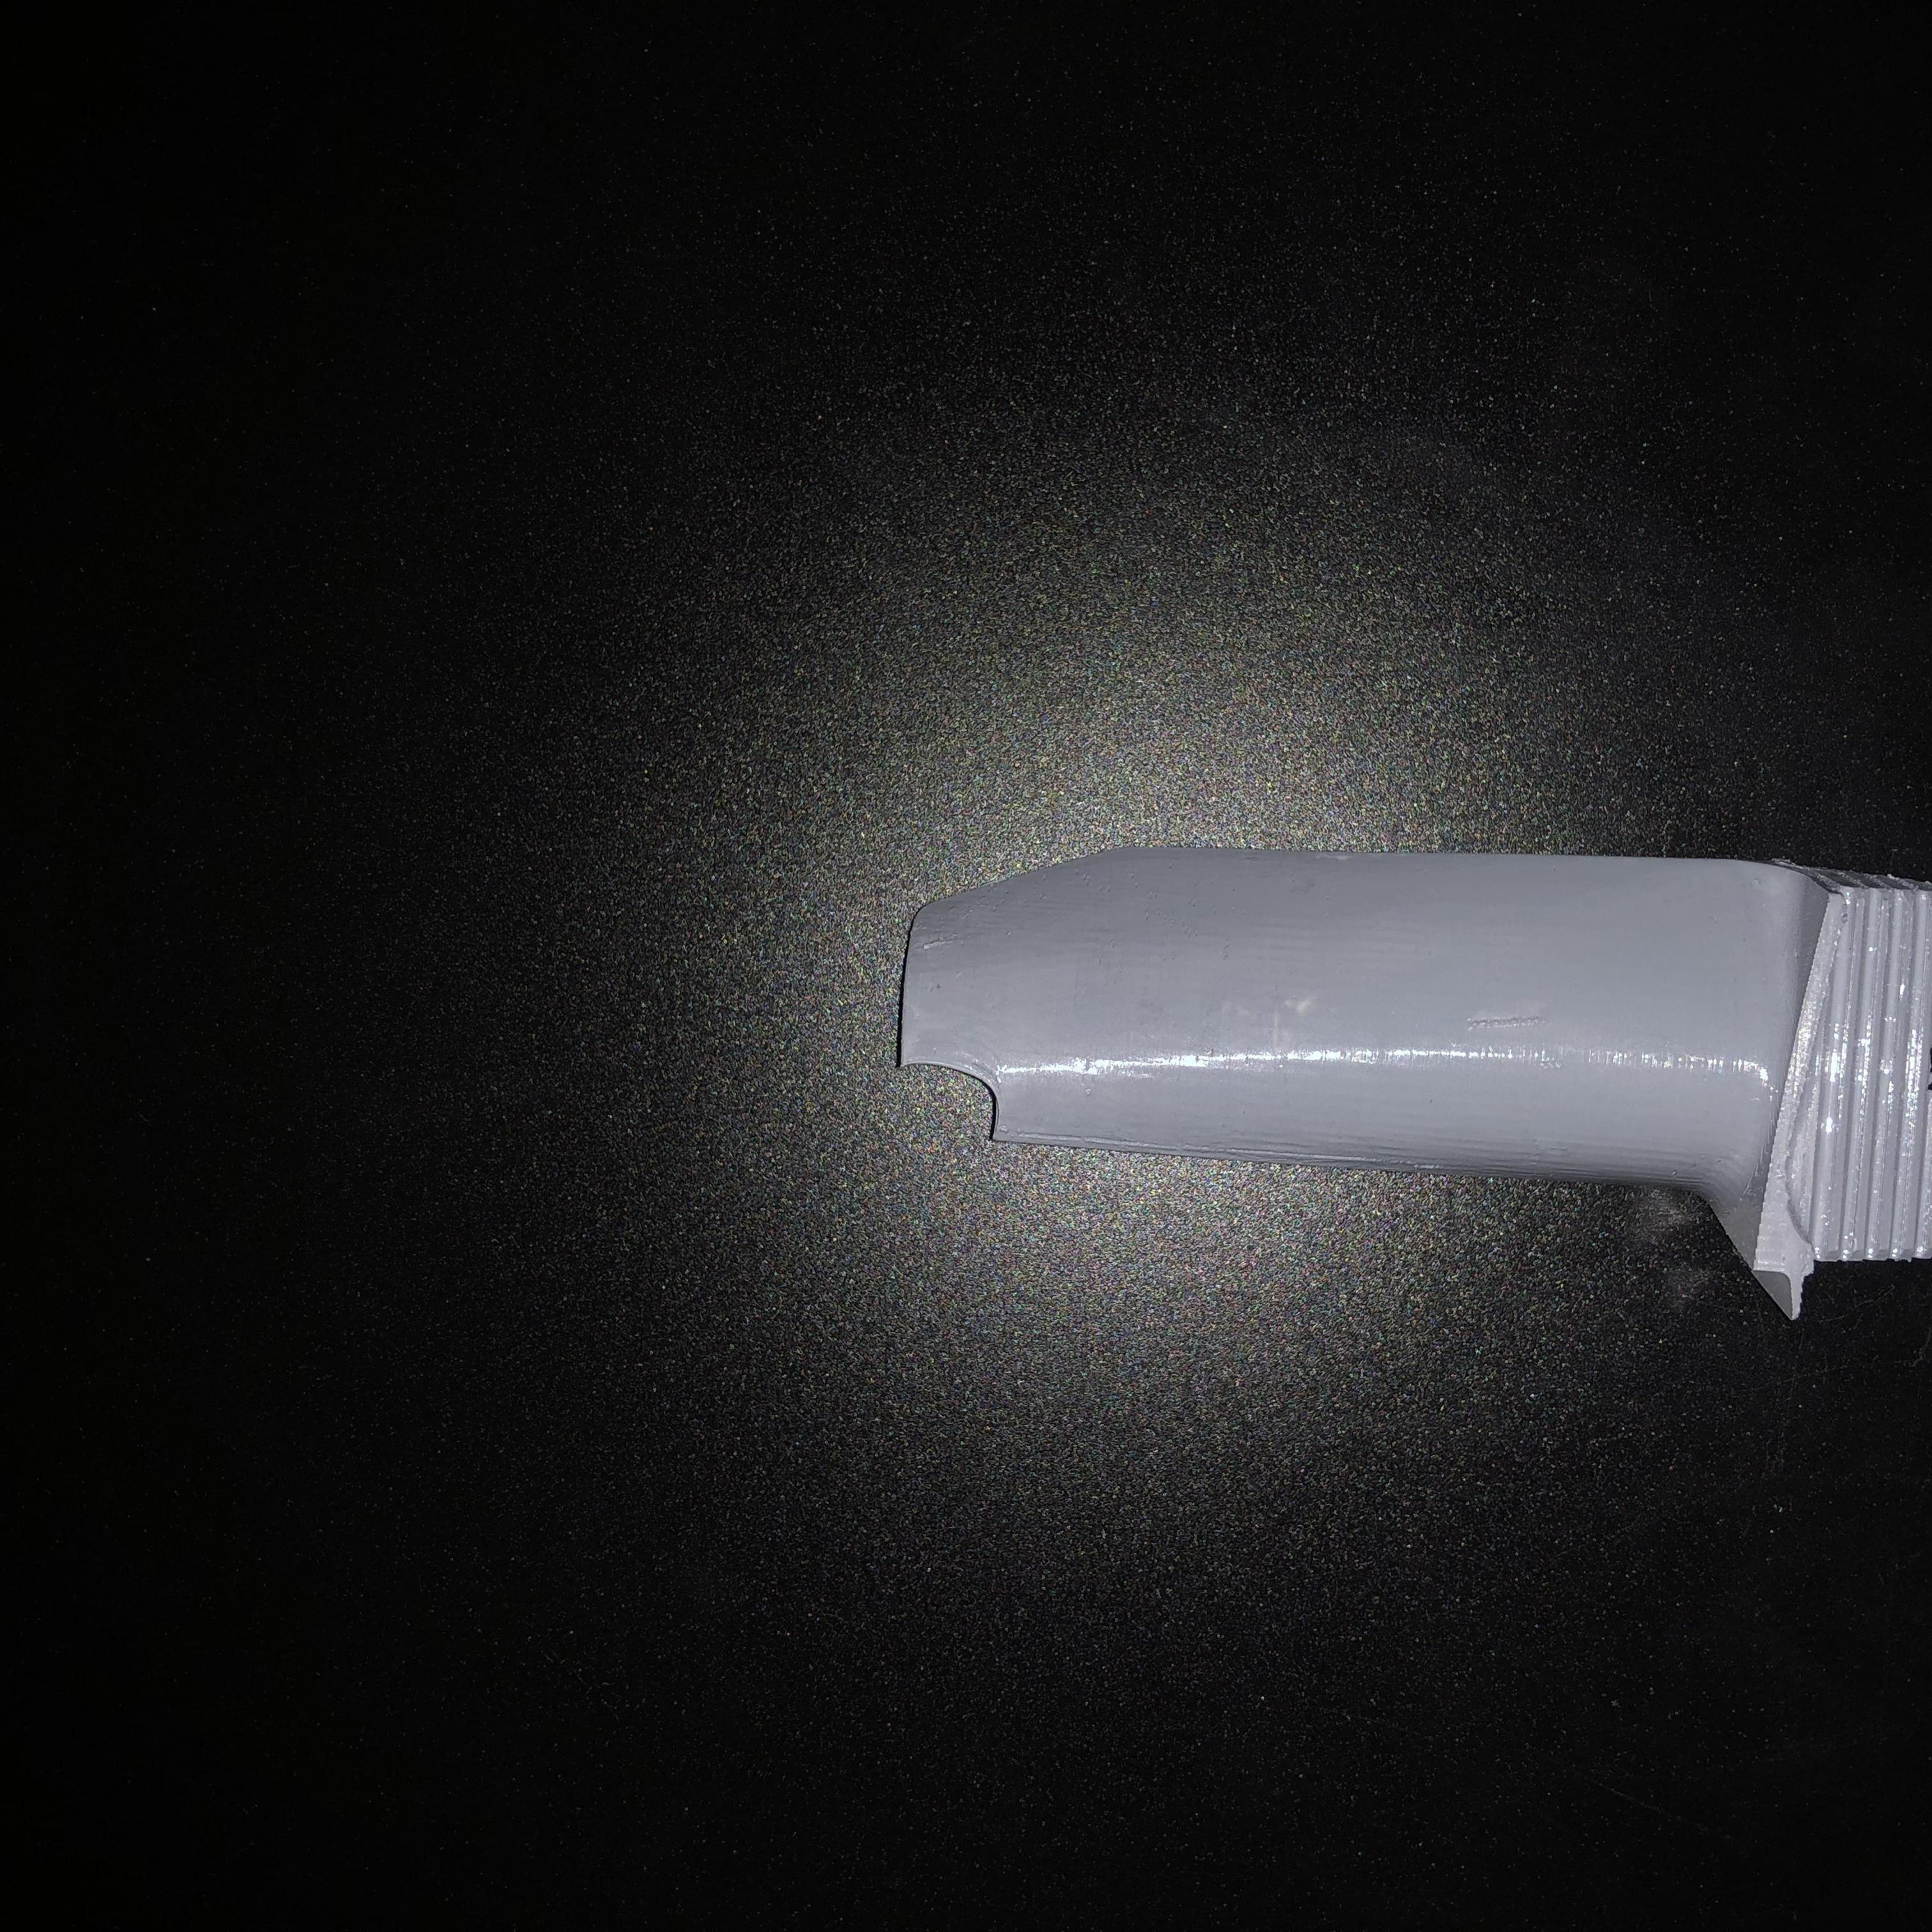fracture: (897, 1046, 1035, 1136)
